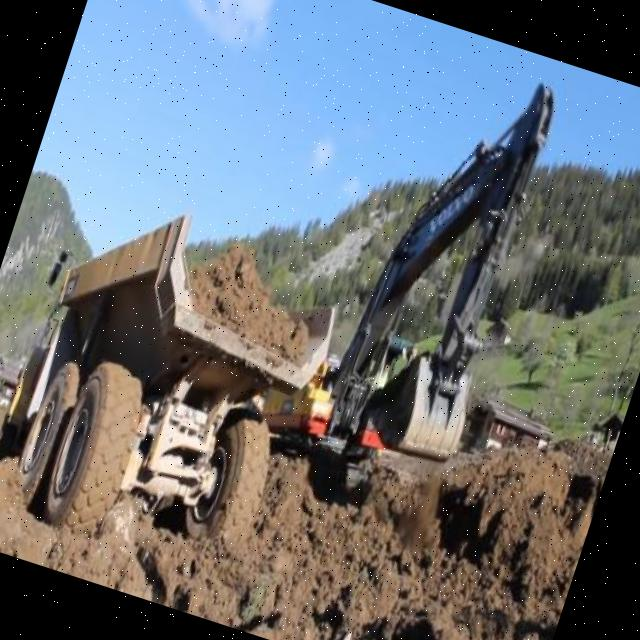Dump Truck: (0, 173, 358, 590)
Excavator: (245, 29, 575, 524)
